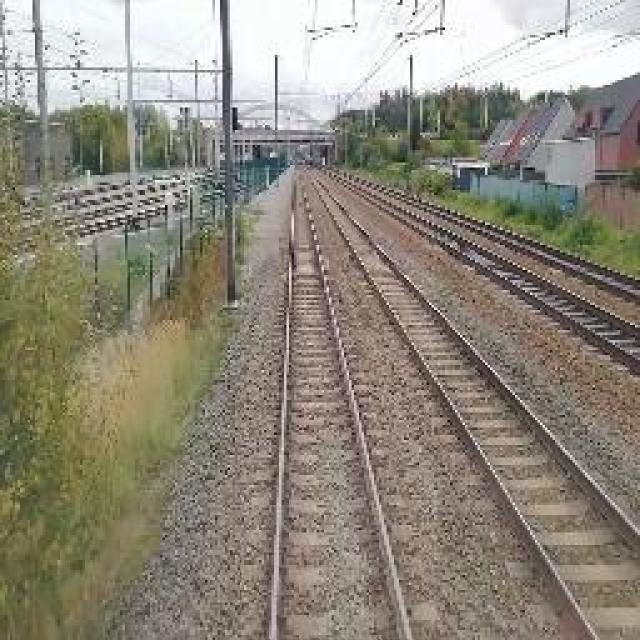rail: (243, 169, 437, 640)
